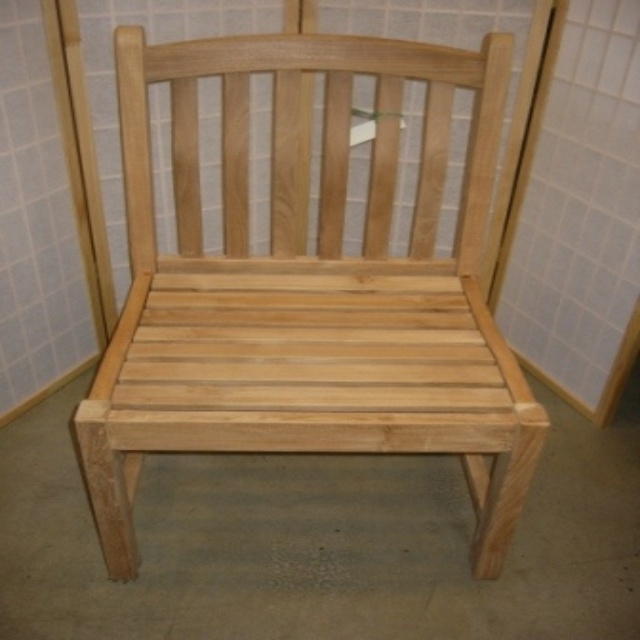obstacle: (74, 26, 547, 579)
